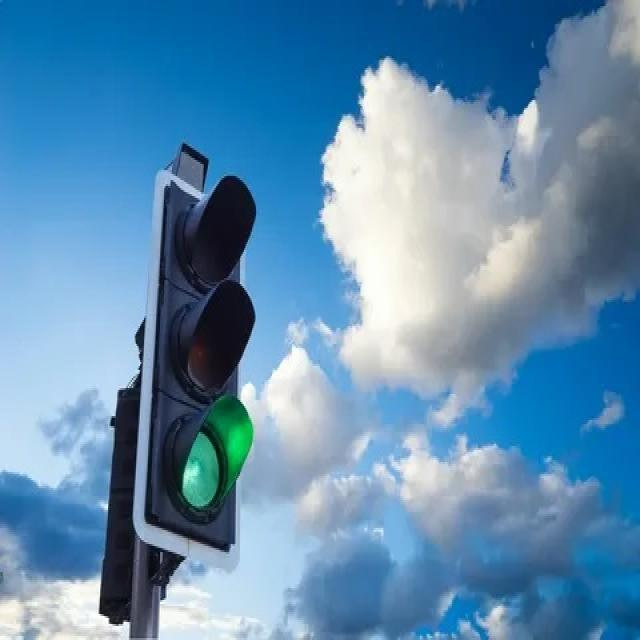yesil: (149, 178, 257, 545)
